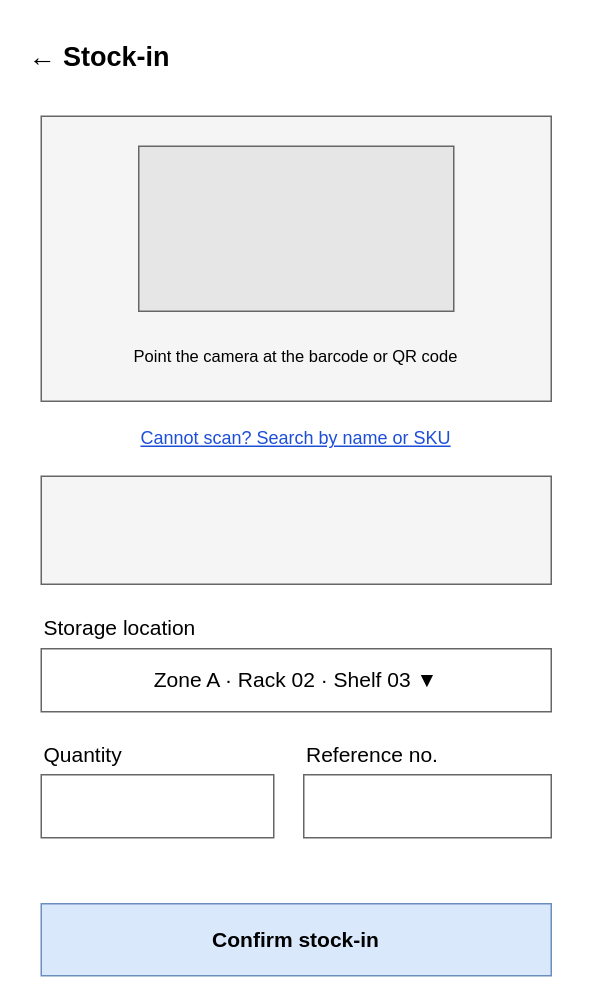
The diagram is 591 pixels wide and 1002 high, and some of its shapes have lost their labels. Each missing label, with the box of its shape:
[ SCAN FRAME ]: (137, 145, 454, 311)
Item A | SKU-0001 Current total: 36 units: (40, 475, 551, 584)
